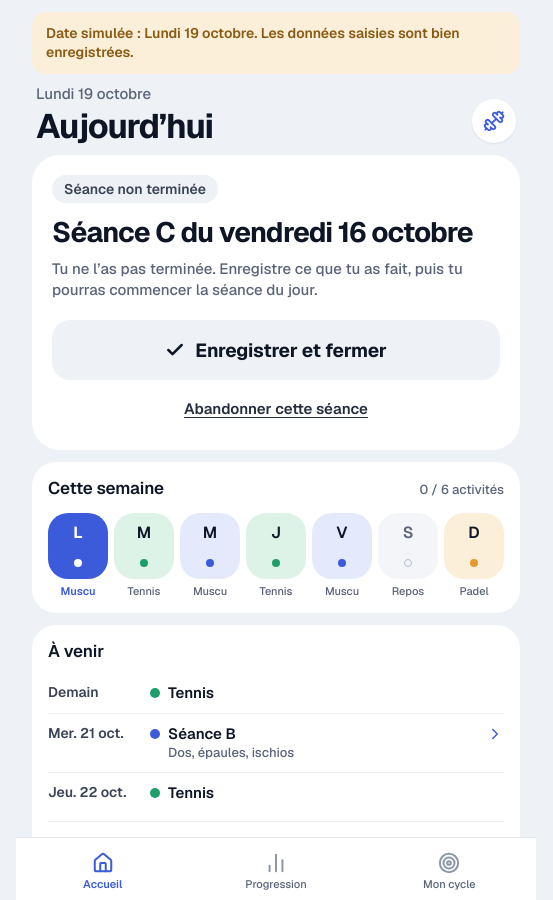
Test: App › propose de clore une séance oubliée un autre jour au lieu de la reprendre
The width and height of the screenshot is (553, 900).
Expected: the text "Séance non terminée" is shown, x1=52 y1=175 x2=218 y2=203
Click the button "Abandonner cette séance". click: (276, 408)
box: x1=178 y1=386 x2=374 y2=430
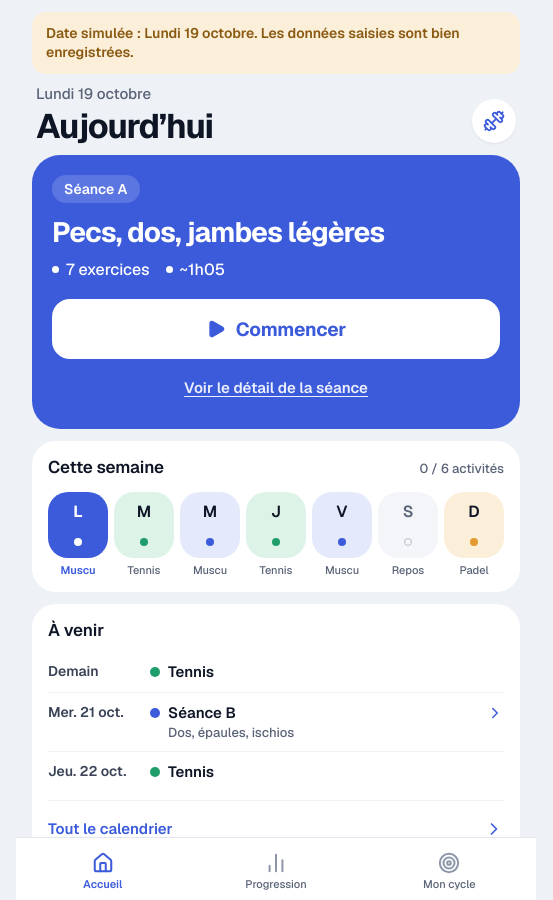
Expected: the button "Commencer" is shown, x1=52 y1=299 x2=500 y2=359
